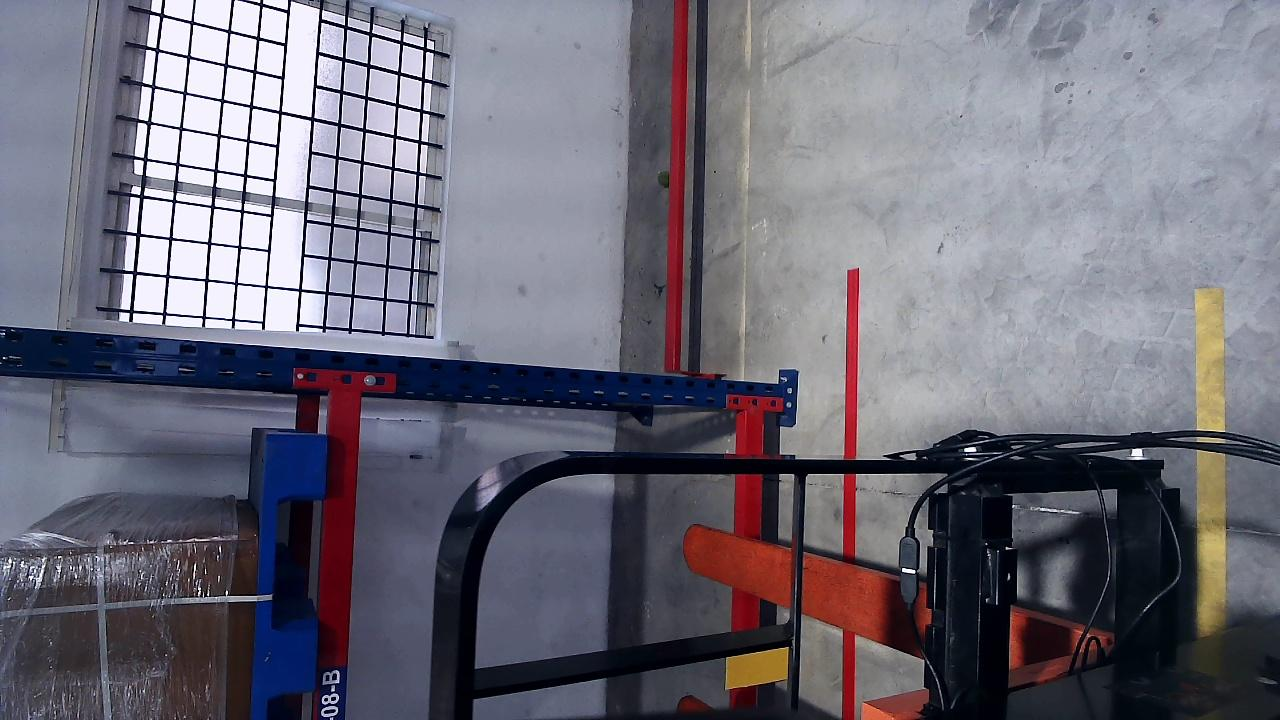h_rack: (312, 390, 363, 718)
orange_strip: (725, 649, 790, 689)
red_line: (841, 267, 861, 720)
small_pallet: (249, 435, 330, 718)
yellow_line: (1194, 288, 1227, 633)
